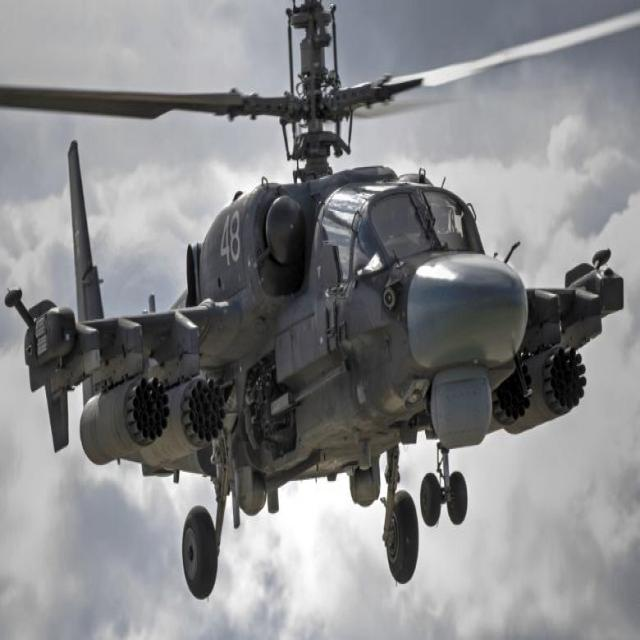MIL_HELO: (0, 9, 640, 602)
